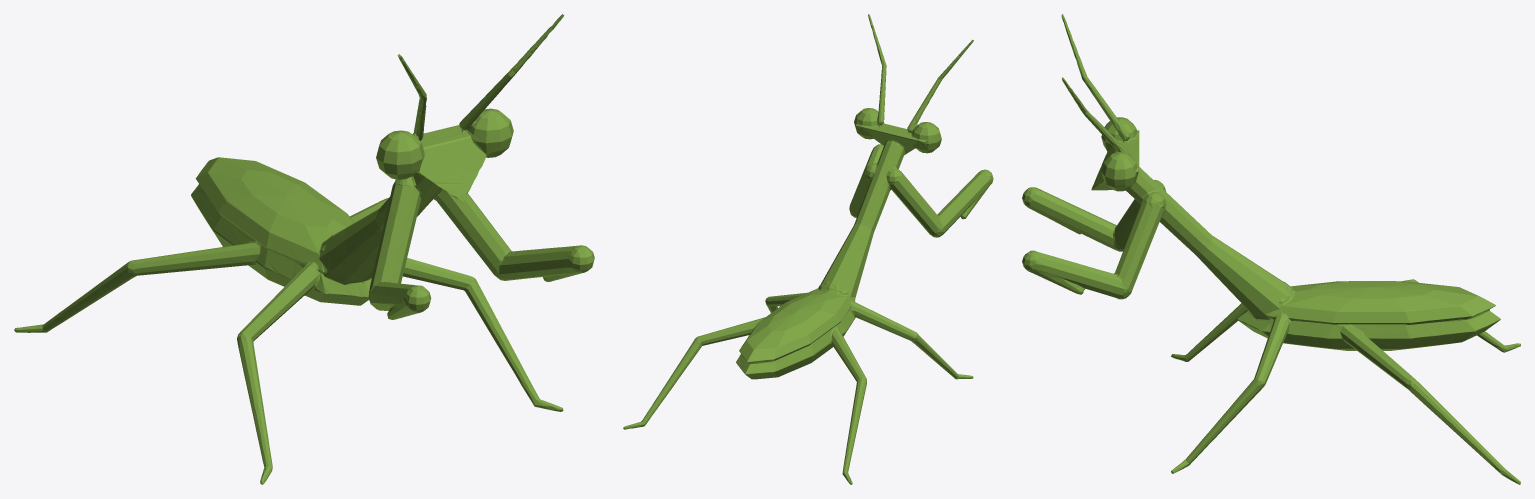
The model's file is NEW_RECOVERY_052_LOD2.glb.
3 renders of one model, left to right at view 1: azimuth 30°, elevation 25°; view 2: azimuth 150°, elevation 25°; view 3: azimuth 270°, elevation 25°, orthographic. The views are drawn at different scales.
Parts seen in each view (by area): view 1: Mantis_whole_solid; view 2: Mantis_whole_solid; view 3: Mantis_whole_solid.
Part boxes in pixels (x1,y1,x2,y2): Mantis_whole_solid: (14,14,594,484); Mantis_whole_solid: (623,14,993,484); Mantis_whole_solid: (1022,14,1520,484).
Size of the model in its own units: 2.81 by 3.48 by 4.25.
